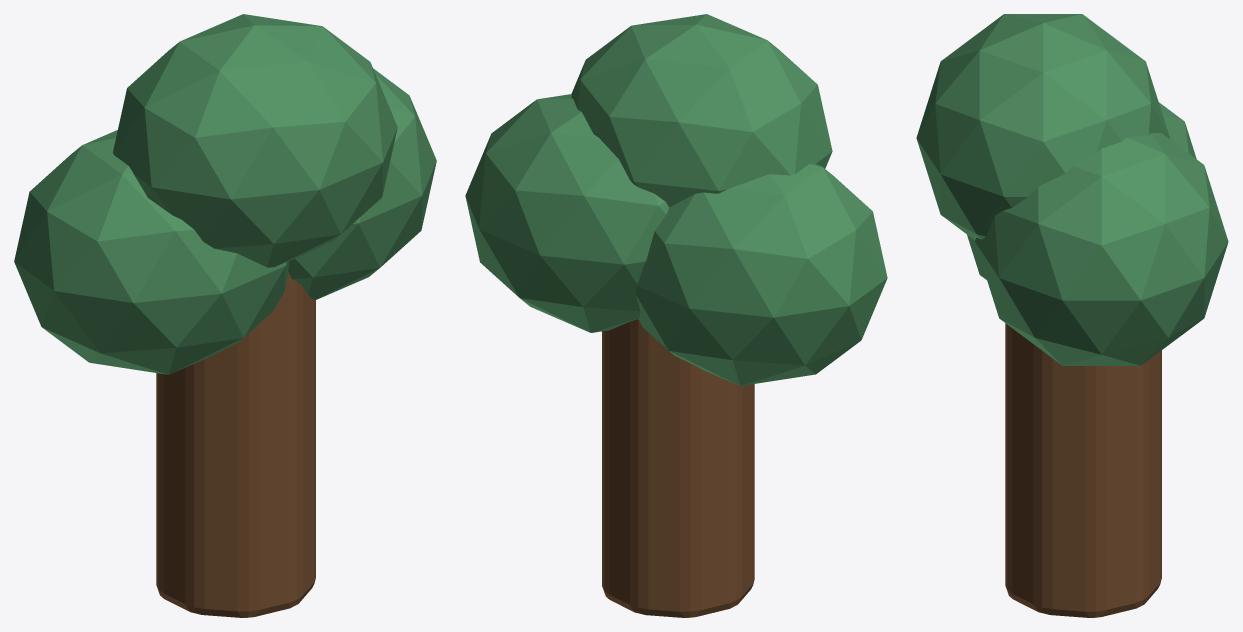
The model's file is Sanctuary-Tree.glb.
The picture shows the model from 3 angles, left to right: view 1: azimuth 30°, elevation 25°; view 2: azimuth 150°, elevation 25°; view 3: azimuth 270°, elevation 25°; orthographic projection. The views are drawn at different scales.
Visible parts, largest first — view 1: Tree_Canopy.005, Ancient_Tree_Trunk.001, Tree_Canopy.003, Tree_Canopy.004; view 2: Tree_Canopy.003, Ancient_Tree_Trunk.001, Tree_Canopy.005, Tree_Canopy.004; view 3: Tree_Canopy.004, Ancient_Tree_Trunk.001, Tree_Canopy.005, Tree_Canopy.003.
Boxes of the visible parts, box(x1,y1,x2,y2) form: Tree_Canopy.005: box(113, 14, 397, 267); Ancient_Tree_Trunk.001: box(156, 272, 315, 617); Tree_Canopy.003: box(14, 130, 289, 374); Tree_Canopy.004: box(288, 68, 436, 300); Tree_Canopy.003: box(635, 163, 887, 385); Ancient_Tree_Trunk.001: box(602, 319, 754, 617); Tree_Canopy.005: box(571, 14, 832, 207); Tree_Canopy.004: box(465, 94, 669, 332); Tree_Canopy.004: box(975, 133, 1228, 365); Ancient_Tree_Trunk.001: box(1005, 323, 1161, 617); Tree_Canopy.005: box(916, 14, 1169, 240); Tree_Canopy.003: box(967, 102, 1196, 279).
Size of the model in its own units: 2.28 by 3.2 by 1.6.
